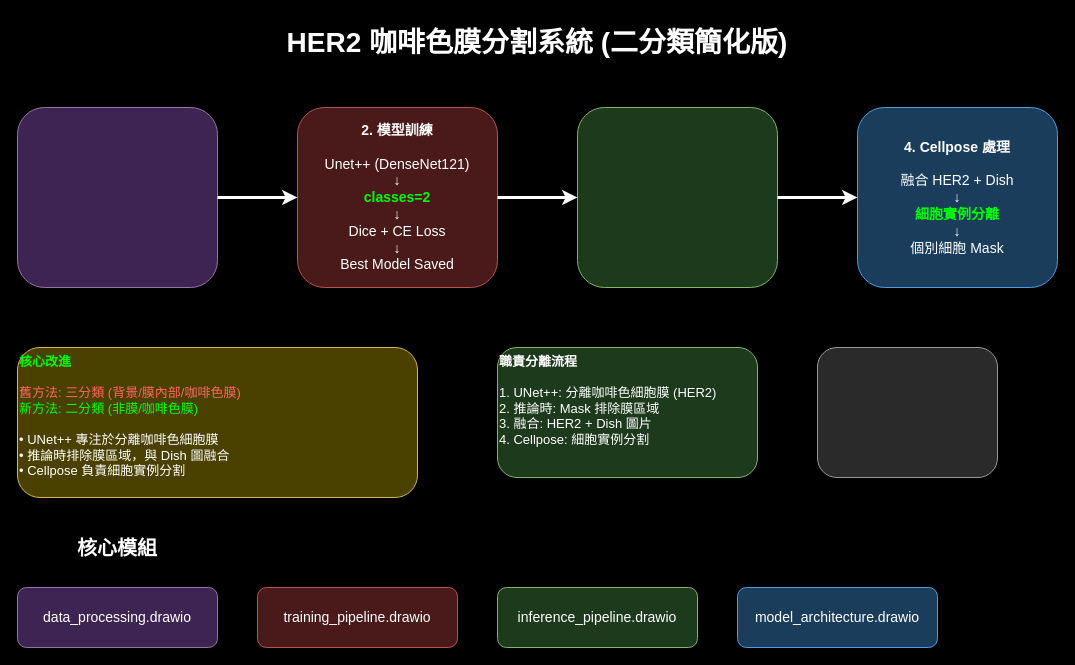
Some shapes in this 1075 by 665 pixel diagram are drawn without their labels. Each missing label, with the centre of its shape:
"1. 數據預處理 HER2 影像 ↓ Color Deconvolution ↓ 二分類 Mask (0-1)" goes at pixel 117 197.
"3. UNet++ 推論 Load Checkpoint ↓ 咖啡色膜 Mask ↓ 排除膜區域" goes at pixel 677 197.
"優勢 ✓ 簡化任務複雜度 ✓ 模型更容易收斂 ✓ 職責分離設計 ✓ 減少累積誤差" goes at pixel 907 412.
